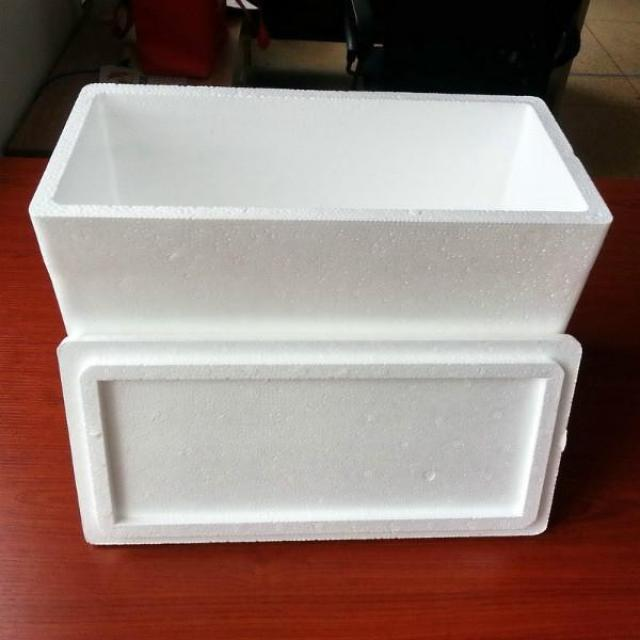styrofoam: (27, 80, 613, 545)
